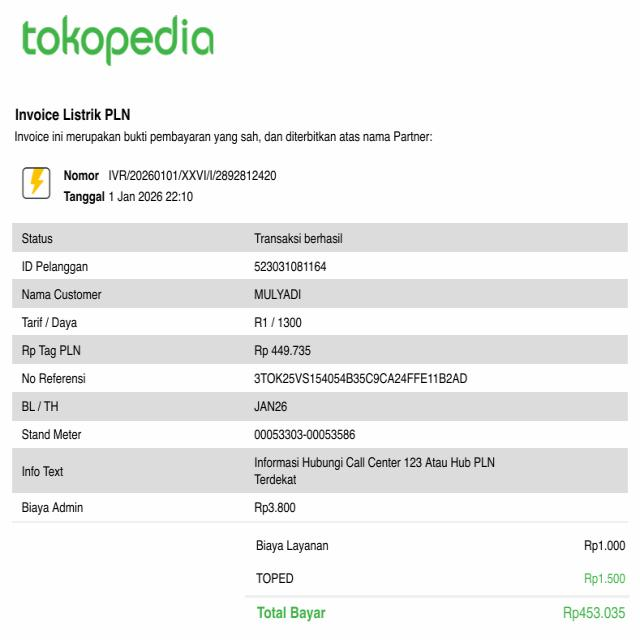date: (106, 189, 195, 205)
store: (21, 16, 220, 61), (11, 104, 133, 125)
total: (254, 599, 629, 624)
